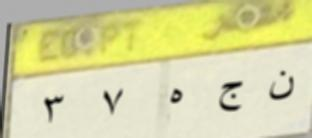3: (42, 92, 67, 124)
7: (100, 87, 127, 118)
haa: (164, 79, 188, 107)
jeem: (218, 79, 248, 114)
noon: (265, 65, 299, 103)
